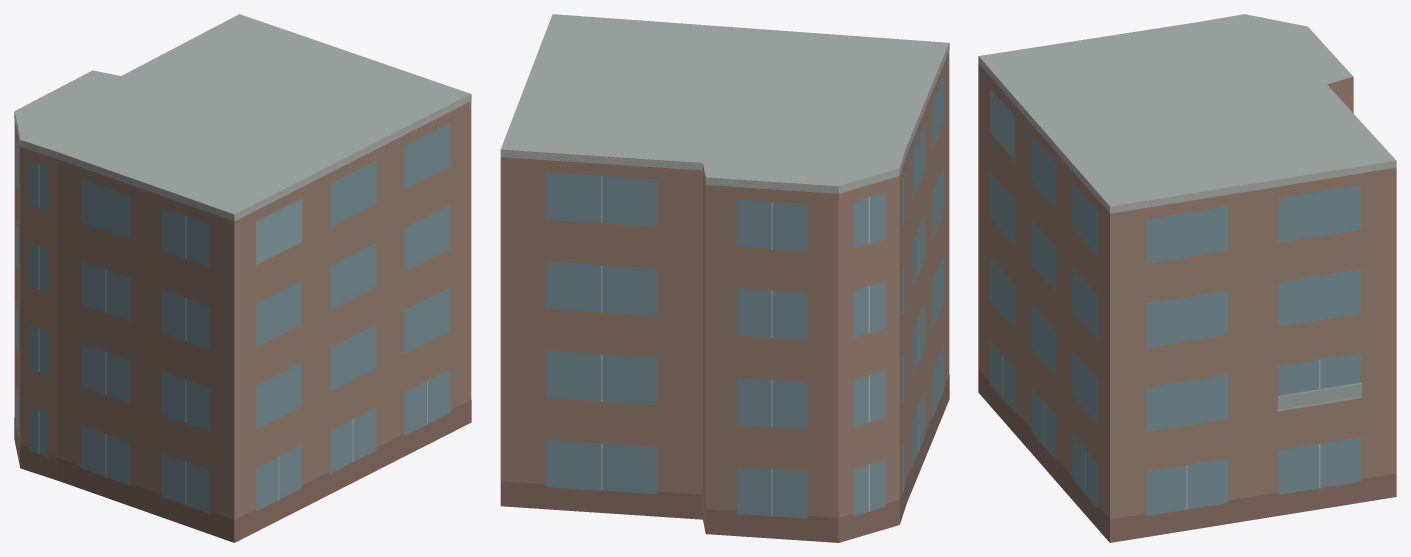
File: survey-upis-32853117.glb
3 views of the same model, side by side, from view 1: azimuth 30°, elevation 25°; view 2: azimuth 150°, elevation 25°; view 3: azimuth 270°, elevation 25° (orthographic). The views are drawn at different scales.
Parts seen in each view (by area): view 1: survey-upis-32853117.tmp; view 2: survey-upis-32853117.tmp; view 3: survey-upis-32853117.tmp.
Part boxes in pixels (x1,y1,x2,y2): survey-upis-32853117.tmp: (14,14,471,542); survey-upis-32853117.tmp: (500,14,949,542); survey-upis-32853117.tmp: (978,14,1396,542).
Size of the model in its own units: 14.13 by 11.5 by 12.97.
